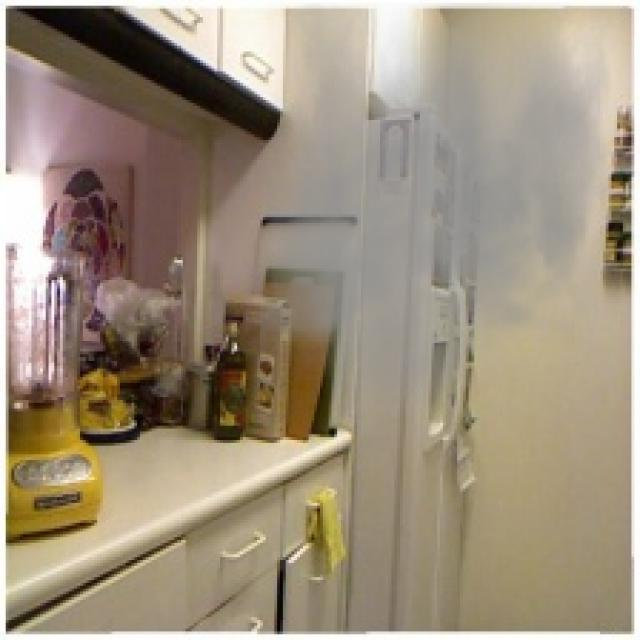Smoke: (259, 3, 612, 426)
